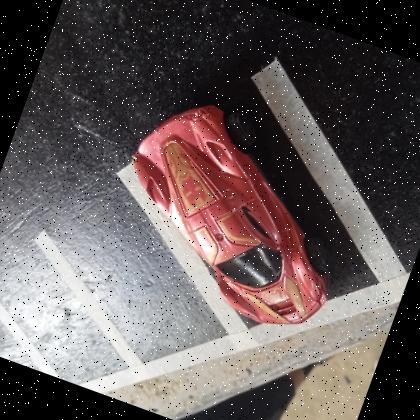Car: (120, 102, 333, 325)
